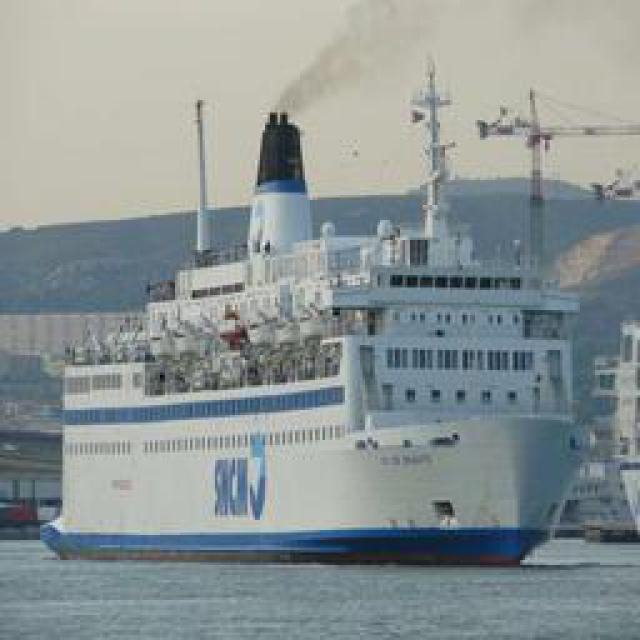Ship: (34, 46, 607, 564)
